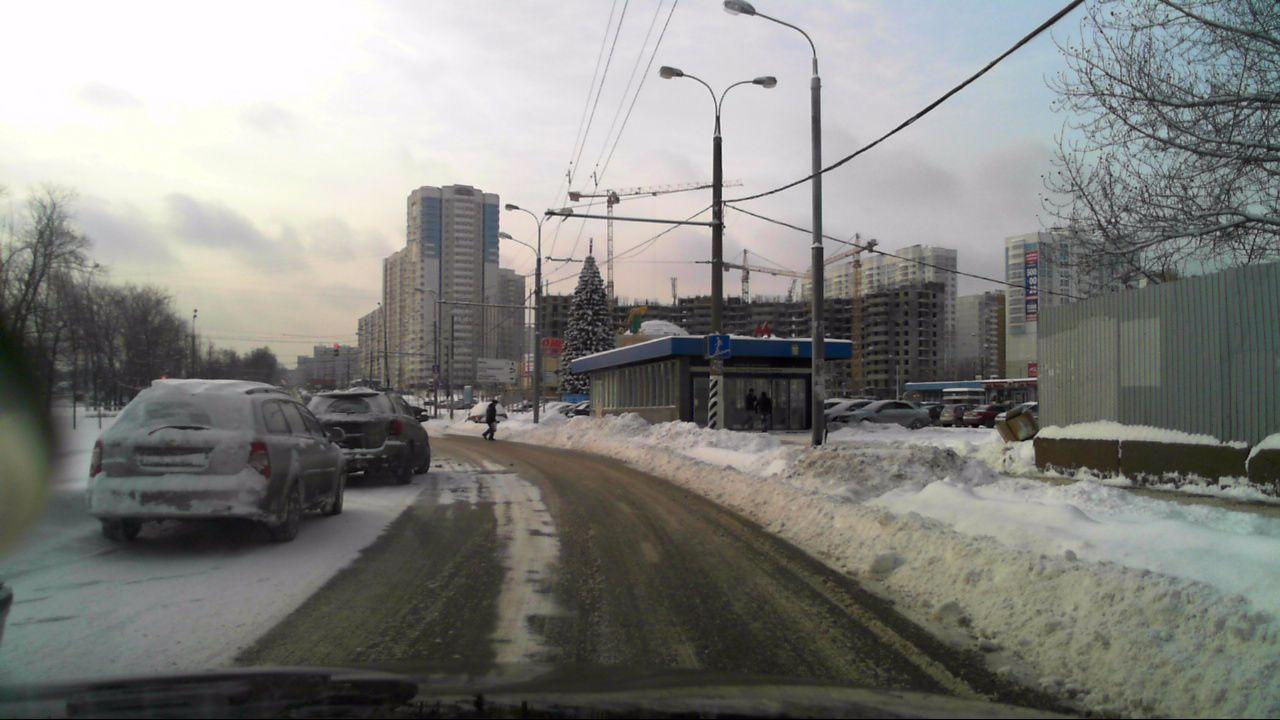6_6: (706, 336, 731, 361)
